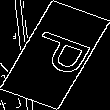P_SE: (16, 28, 94, 82)
